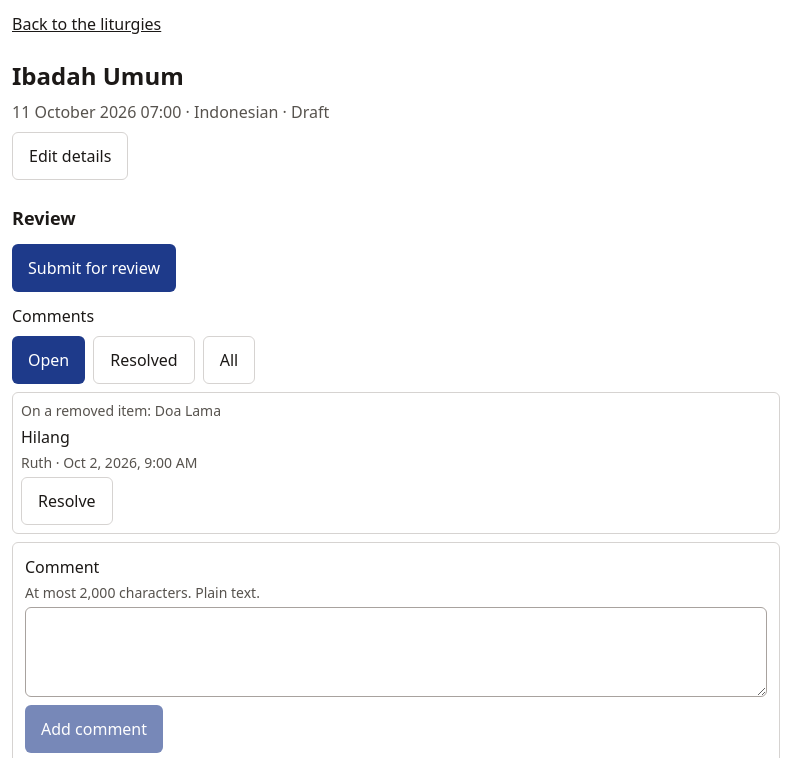
Scenario: WT-R-004 comments › shows a comment on a removed item with its kept title, and filters in the panel
Expected: the text "On a removed item: Doa Lama" is shown, 21,401 -> 221,420
What coordinates should you click on to do the following:
click the button "Resolved"
I would click on:
 (144, 360)
Its box is 93,336 -> 195,384.
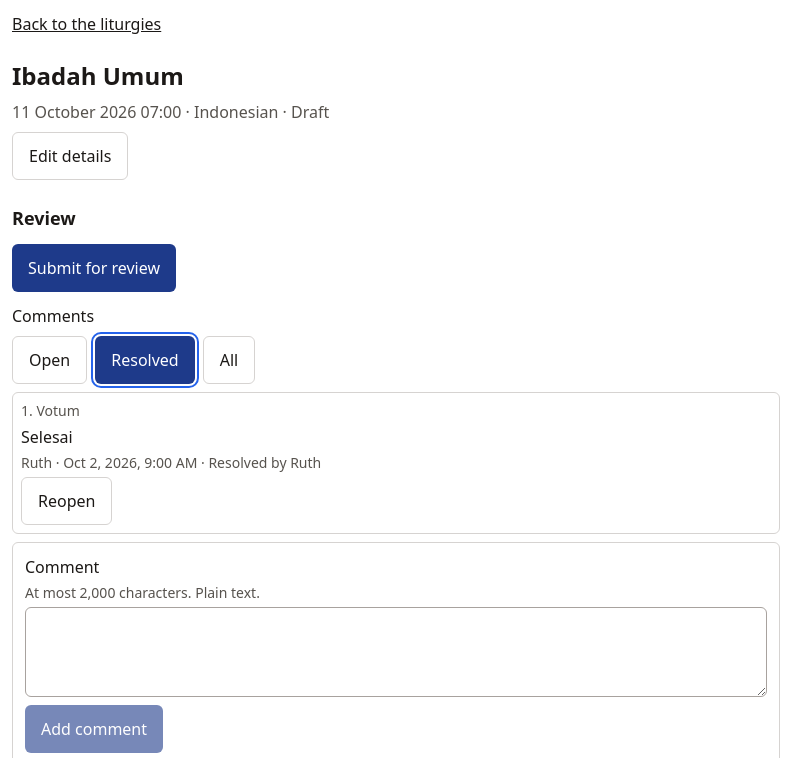
Result: the text "Selesai" is shown at 21,426 -> 73,448
Result: the text "Hilang" is gone
What coordinates should you click on to do the following:
click the button "All"
I would click on:
 (229, 360)
Its box is 203,336 -> 255,384.
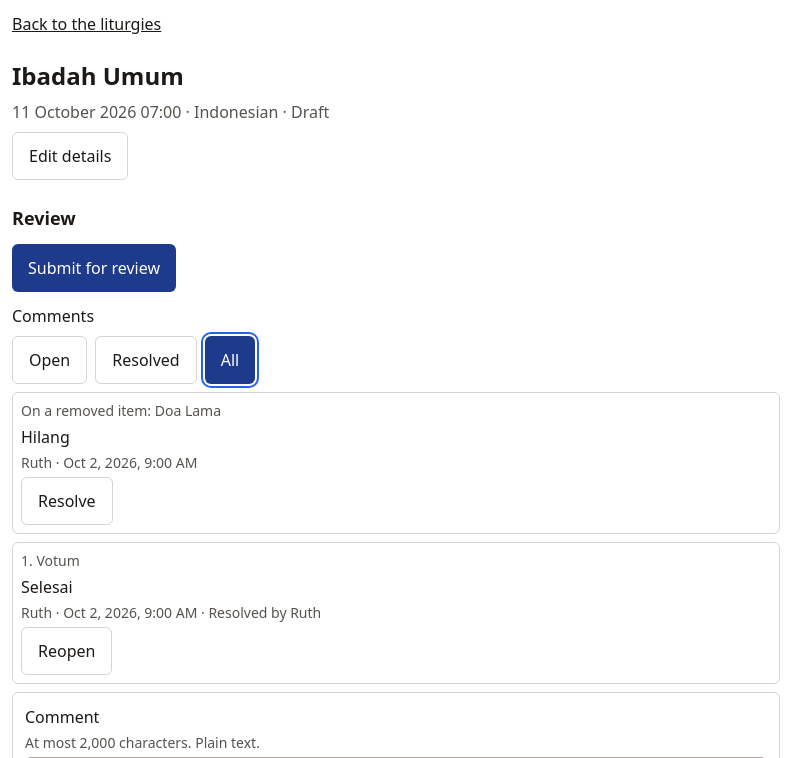
Result: the text "Hilang" is shown at 21,426 -> 70,448
